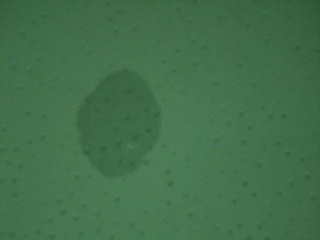Water_detected: (80, 78, 155, 162)
